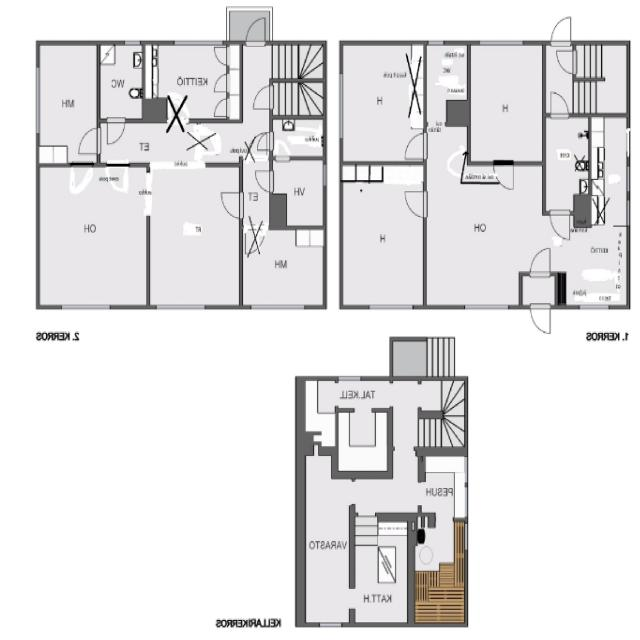door: (402, 191, 427, 218), (402, 133, 427, 160), (549, 210, 570, 242), (530, 304, 550, 336), (219, 193, 243, 219), (550, 15, 570, 46), (530, 246, 550, 277), (246, 16, 265, 46), (467, 135, 489, 160), (78, 129, 100, 154), (551, 89, 569, 118), (252, 85, 274, 108), (108, 118, 125, 146), (428, 99, 445, 126), (556, 51, 576, 73), (254, 171, 273, 192), (256, 133, 274, 150), (213, 48, 229, 65), (213, 75, 229, 92), (213, 100, 229, 117)
